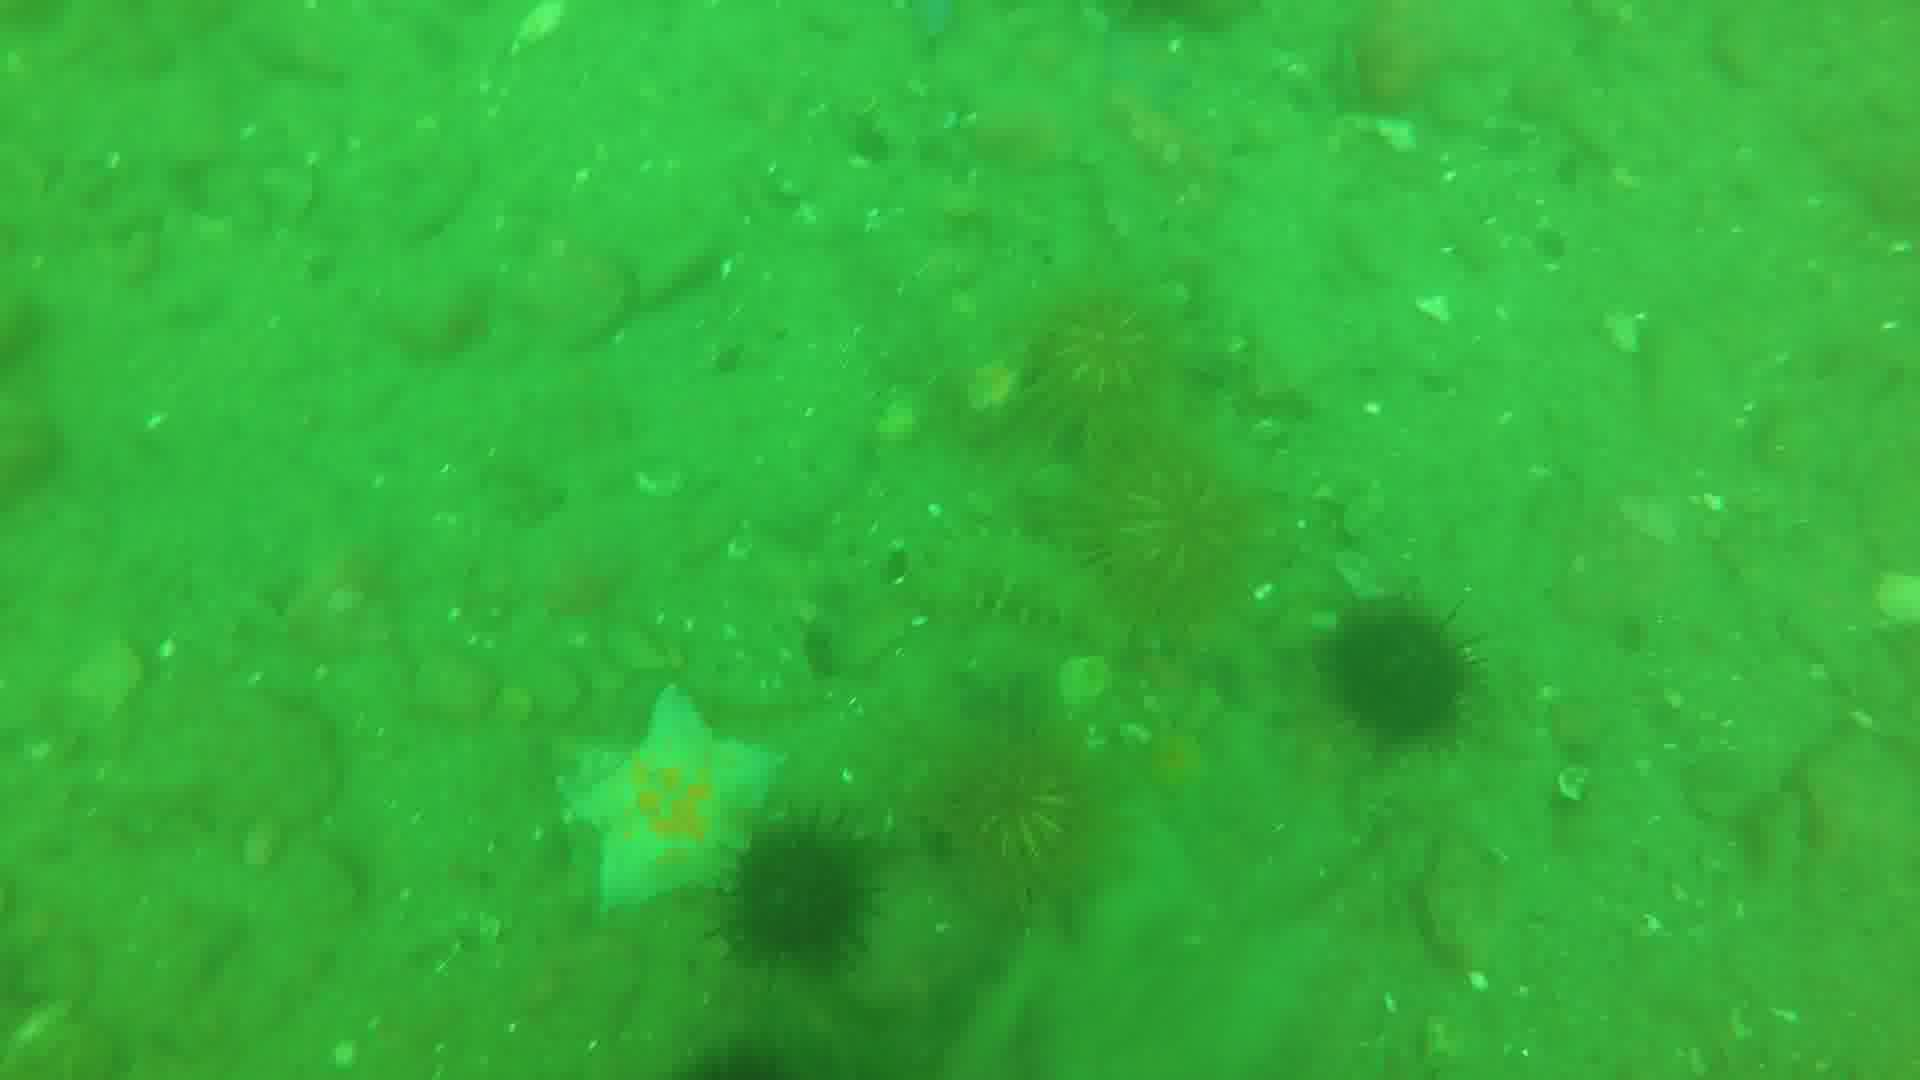echinus: (713, 810, 895, 994), (947, 736, 1097, 920), (1321, 597, 1495, 756), (1093, 467, 1247, 621), (1030, 278, 1183, 423)
holothurian: (942, 541, 1131, 663)
scallop: (872, 386, 936, 442), (971, 357, 1022, 414), (1058, 655, 1116, 702), (1555, 764, 1592, 804)
starfish: (558, 687, 786, 934)
